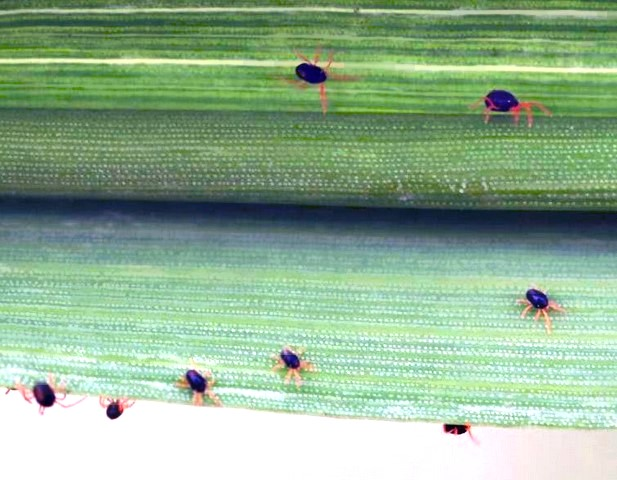Wheat Red Spider: (465, 78, 563, 132), (511, 273, 571, 341)
